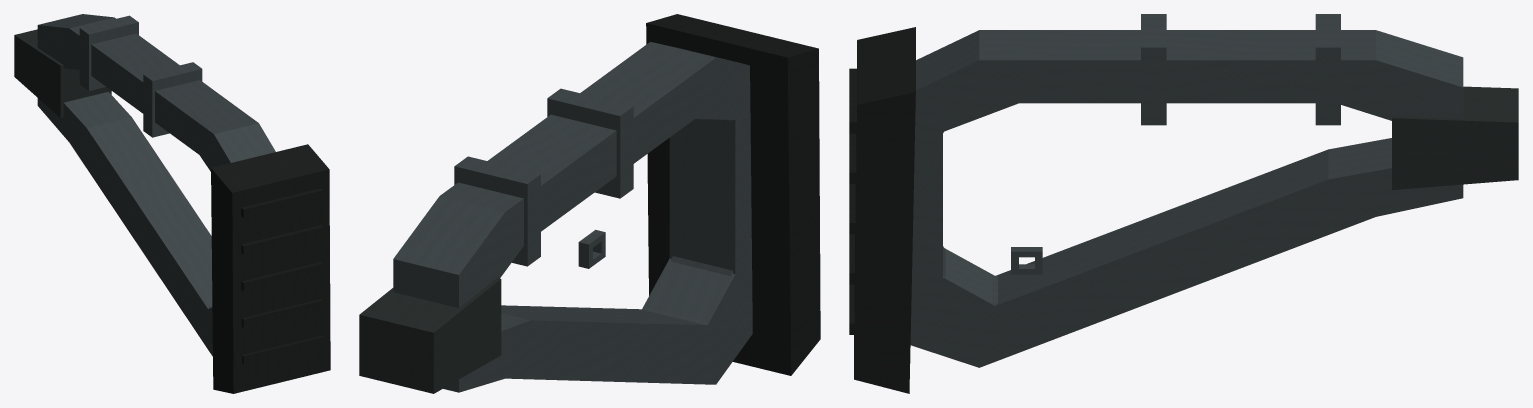
File: ak_skeleton.glb
3 renders of one model, left to right at view 1: azimuth 30°, elevation 25°; view 2: azimuth 150°, elevation 25°; view 3: azimuth 270°, elevation 25°, orthographic. The views are drawn at different scales.
Parts seen in each view (by area): view 1: ak_skeleton_buttpad, ak_skeleton_open_stock.001, ak_skeleton_open_stock, ak_skeleton_buttpad.001, ak_skeleton_receiver_neck, ak_skeleton_receiver_neck.001; view 2: ak_skeleton_open_stock, ak_skeleton_open_stock.001, ak_skeleton_buttpad, ak_skeleton_buttpad.001, ak_skeleton_receiver_neck, ak_skeleton_receiver_neck.001; view 3: ak_skeleton_open_stock, ak_skeleton_open_stock.001, ak_skeleton_buttpad, ak_skeleton_receiver_neck, ak_skeleton_buttpad.001, ak_skeleton_receiver_neck.001.
Part boxes in pixels (x1=…): ak_skeleton_buttpad: x1=211, y1=145, x2=328, y2=391; ak_skeleton_open_stock.001: x1=37, y1=14, x2=275, y2=356; ak_skeleton_open_stock: x1=38, y1=14, x2=273, y2=353; ak_skeleton_buttpad.001: x1=211, y1=144, x2=330, y2=393; ak_skeleton_receiver_neck: x1=15, y1=30, x2=110, y2=116; ak_skeleton_receiver_neck.001: x1=14, y1=29, x2=111, y2=117; ak_skeleton_open_stock: x1=396, y1=42, x2=752, y2=389; ak_skeleton_open_stock.001: x1=393, y1=42, x2=752, y2=392; ak_skeleton_buttpad: x1=648, y1=15, x2=820, y2=372; ak_skeleton_buttpad.001: x1=646, y1=14, x2=820, y2=375; ak_skeleton_receiver_neck: x1=360, y1=279, x2=500, y2=391; ak_skeleton_receiver_neck.001: x1=359, y1=278, x2=501, y2=393; ak_skeleton_open_stock: x1=910, y1=14, x2=1460, y2=356; ak_skeleton_open_stock.001: x1=910, y1=30, x2=1463, y2=367; ak_skeleton_buttpad: x1=849, y1=28, x2=914, y2=390; ak_skeleton_receiver_neck: x1=1393, y1=93, x2=1517, y2=188; ak_skeleton_buttpad.001: x1=854, y1=27, x2=915, y2=393; ak_skeleton_receiver_neck.001: x1=1392, y1=86, x2=1518, y2=189.
Size of the model in its own units: 0.097 by 0.23 by 0.422.
Materials: 3 (3 with a texture image).
